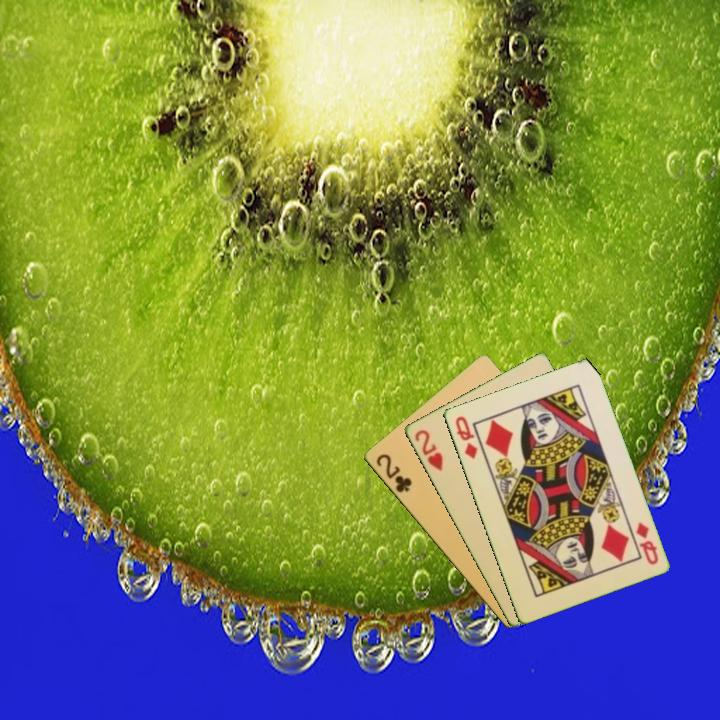2c: (372, 450, 414, 496)
2h: (411, 426, 446, 474)
Qd: (451, 412, 480, 462), (632, 518, 661, 567)
